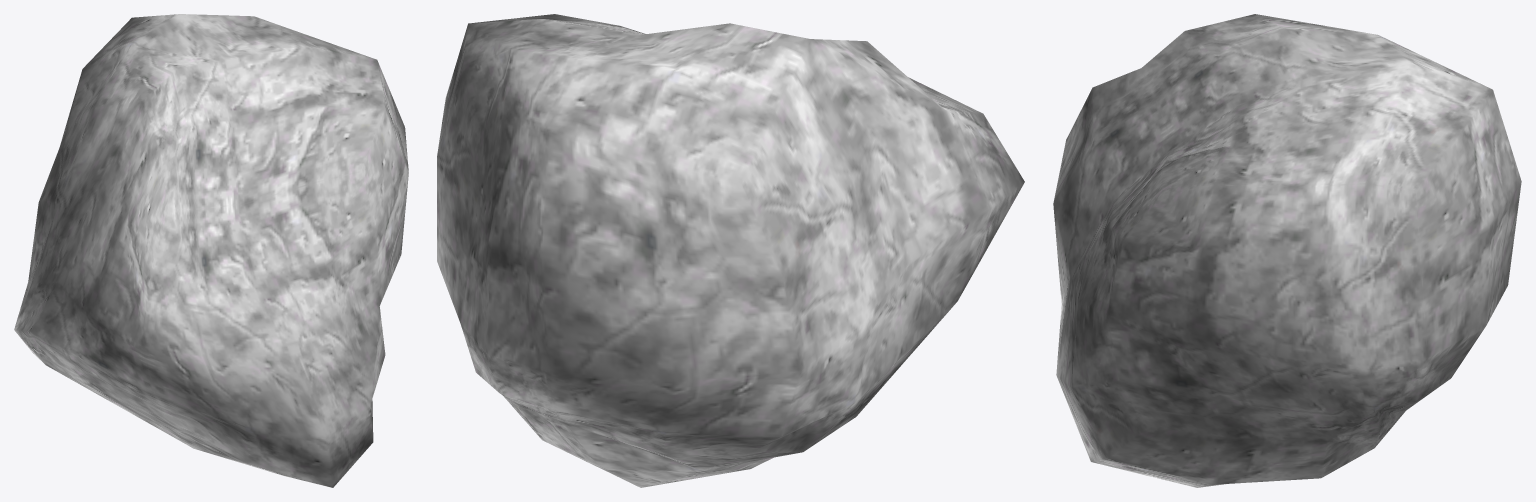
Rendered from INST_SWORDLIGHT_ROCKA.fbx.
3 views of the same model, side by side, from view 1: azimuth 30°, elevation 25°; view 2: azimuth 150°, elevation 25°; view 3: azimuth 270°, elevation 25° (orthographic). The views are drawn at different scales.
Parts seen in each view (by area): view 1: INST_SWORDLIGHT_ROCKA; view 2: INST_SWORDLIGHT_ROCKA; view 3: INST_SWORDLIGHT_ROCKA.
Part boxes in pixels (left/top/right/bottom): INST_SWORDLIGHT_ROCKA: left=14, top=14, right=408, bottom=487; INST_SWORDLIGHT_ROCKA: left=437, top=14, right=1024, bottom=487; INST_SWORDLIGHT_ROCKA: left=1053, top=14, right=1521, bottom=487.
Size of the model in its own units: 21252 by 21252 by 21252.
Materials: 1 (1 with a texture image).
